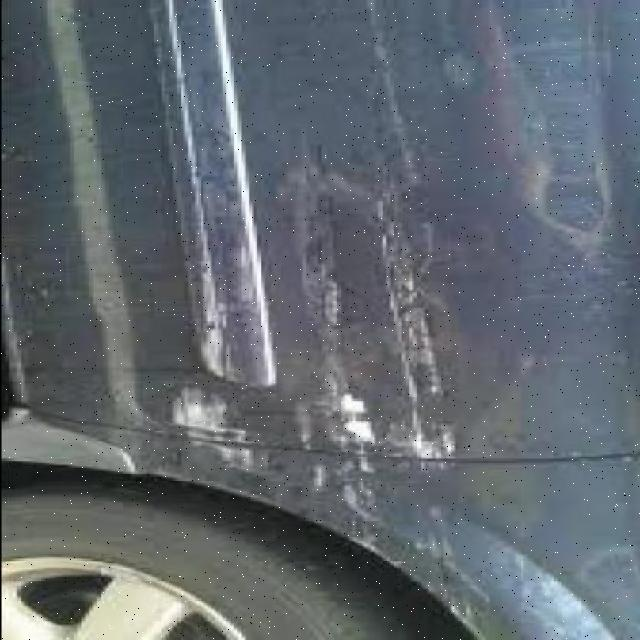damage: (138, 0, 518, 625)
